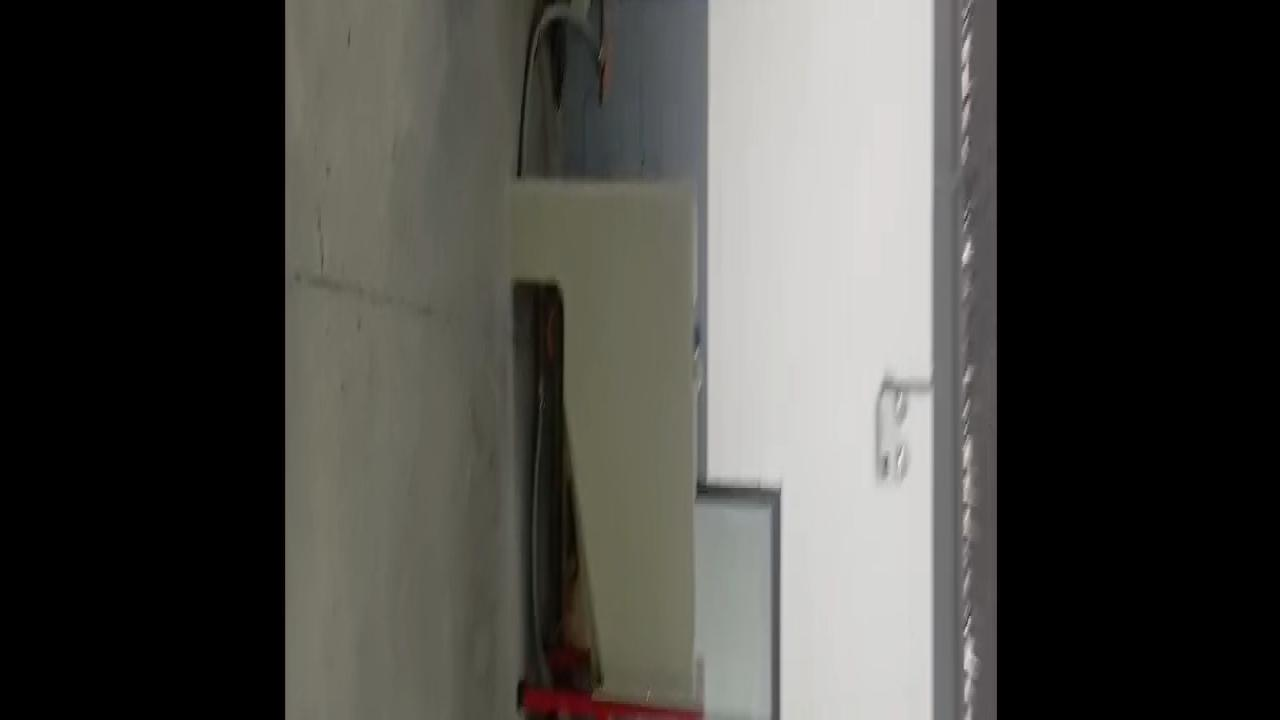Cube: (690, 322, 701, 358)
